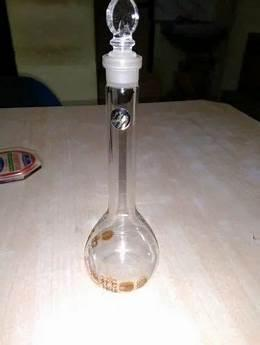Volumetric flask: (67, 7, 177, 302)
